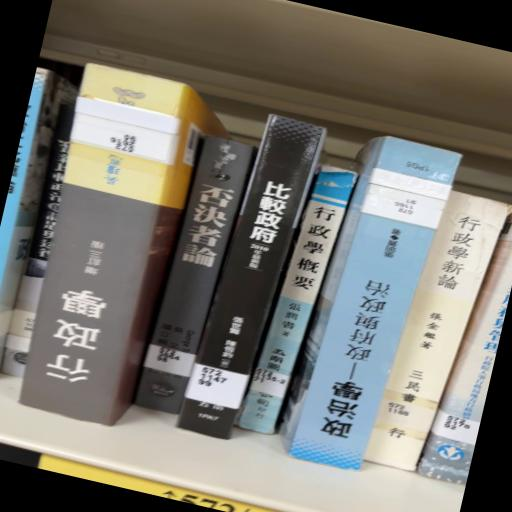reverse: (20, 65, 230, 427), (281, 137, 462, 471)
